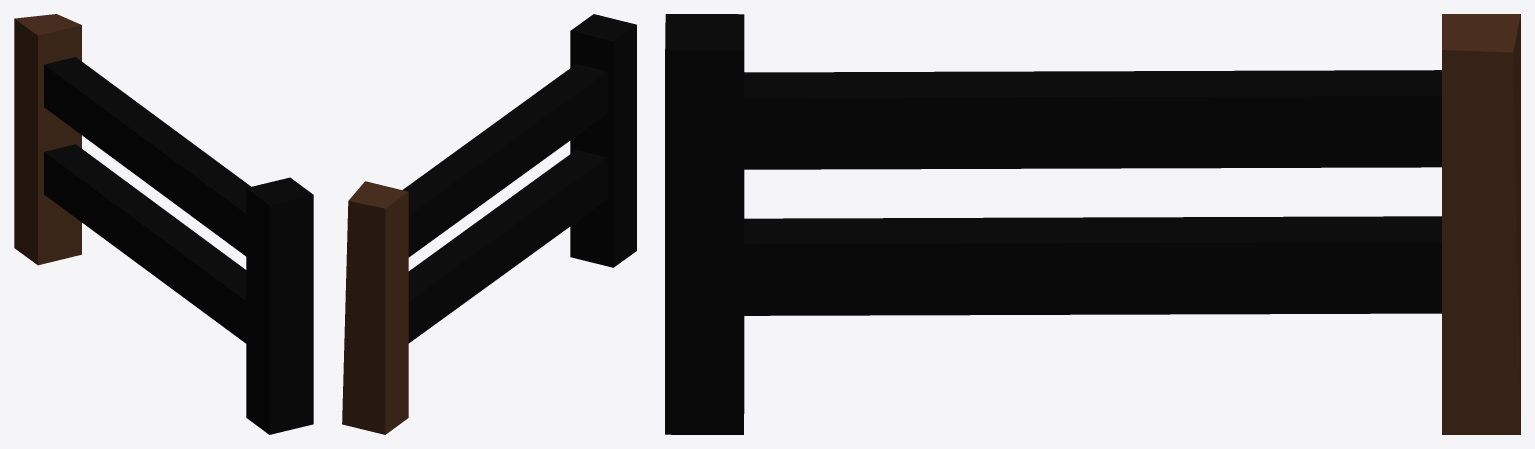
File: Fence.fbx
The picture shows the model from 3 angles, left to right: view 1: azimuth 30°, elevation 25°; view 2: azimuth 150°, elevation 25°; view 3: azimuth 270°, elevation 25°; orthographic projection. The views are drawn at different scales.
Visible parts, largest first — view 1: Cube; view 2: Cube; view 3: Cube.
Part boxes in pixels (x1,y1,x2,y2): Cube: (14, 14, 313, 434); Cube: (342, 14, 636, 434); Cube: (665, 14, 1520, 434).
Bounding box in the file's own units: 40.2 × 200 × 403.
